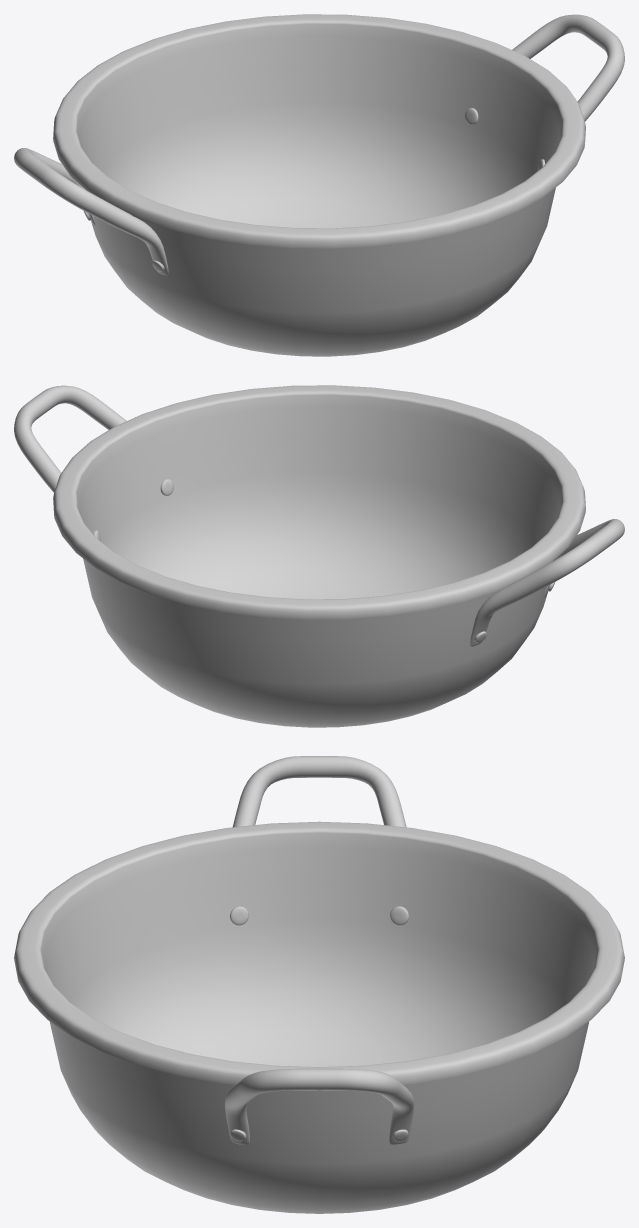
The model's file is pot.fbx.
3 views of the same model, one above another, from view 1: azimuth 30°, elevation 25°; view 2: azimuth 150°, elevation 25°; view 3: azimuth 270°, elevation 25° (orthographic). The views are drawn at different scales.
Parts seen in each view (by area): view 1: pot; view 2: pot; view 3: pot.
Part boxes in pixels (box(x1,y1,x2,y2)): pot: box(14, 14, 624, 356); pot: box(14, 385, 624, 727); pot: box(14, 756, 624, 1213).
Size of the model in its own units: 585 by 199 by 469.
